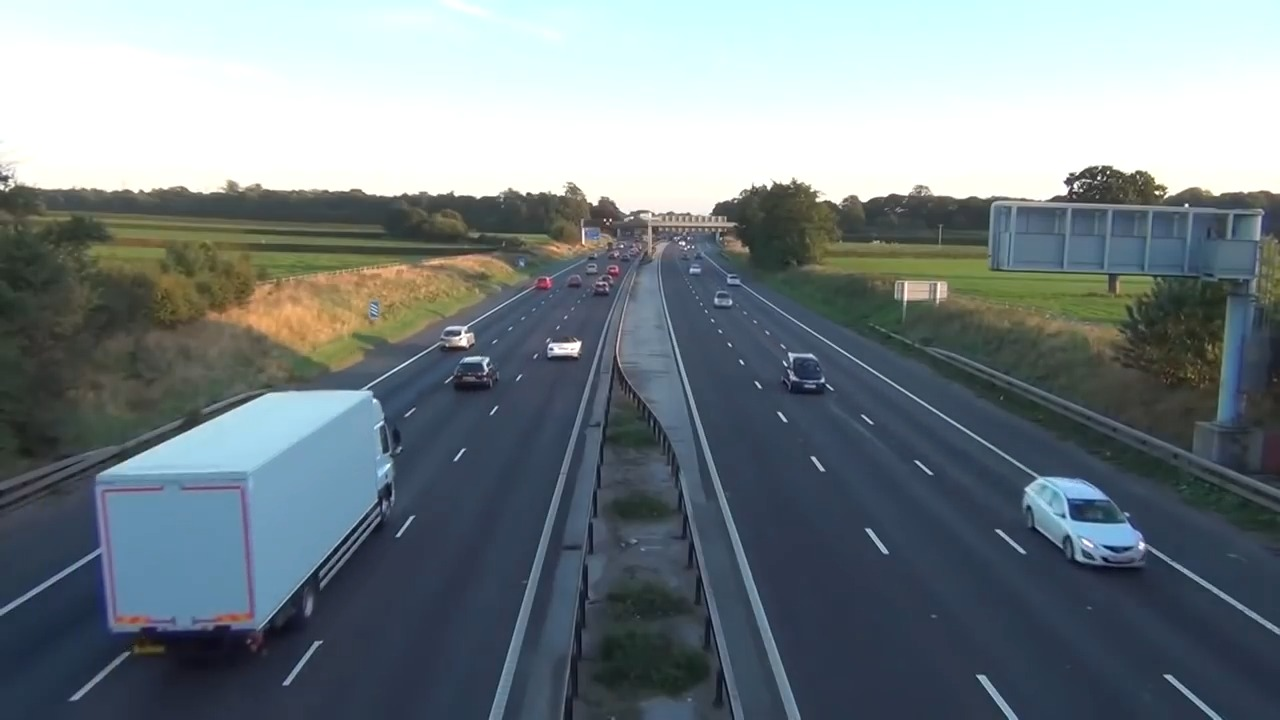truck: (97, 379, 402, 658)
